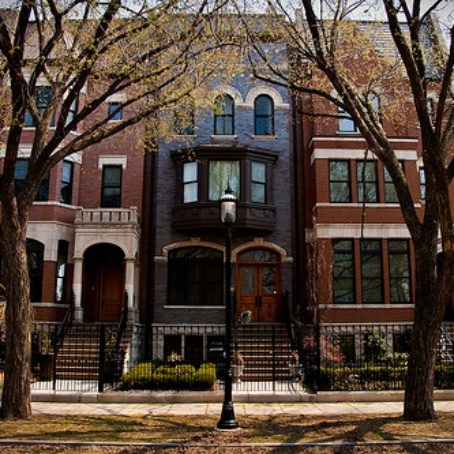building: (1, 1, 146, 376), (155, 15, 299, 378), (315, 33, 435, 360)
light pole: (200, 187, 252, 447)
tree: (325, 14, 454, 454), (1, 1, 99, 408)
